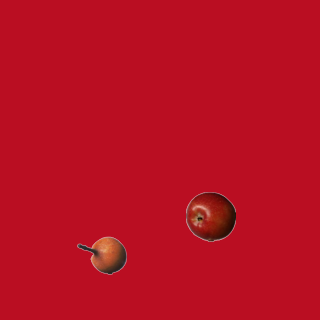Apple Braeburn: (185, 191, 235, 241)
Granadilla: (76, 230, 126, 280)
